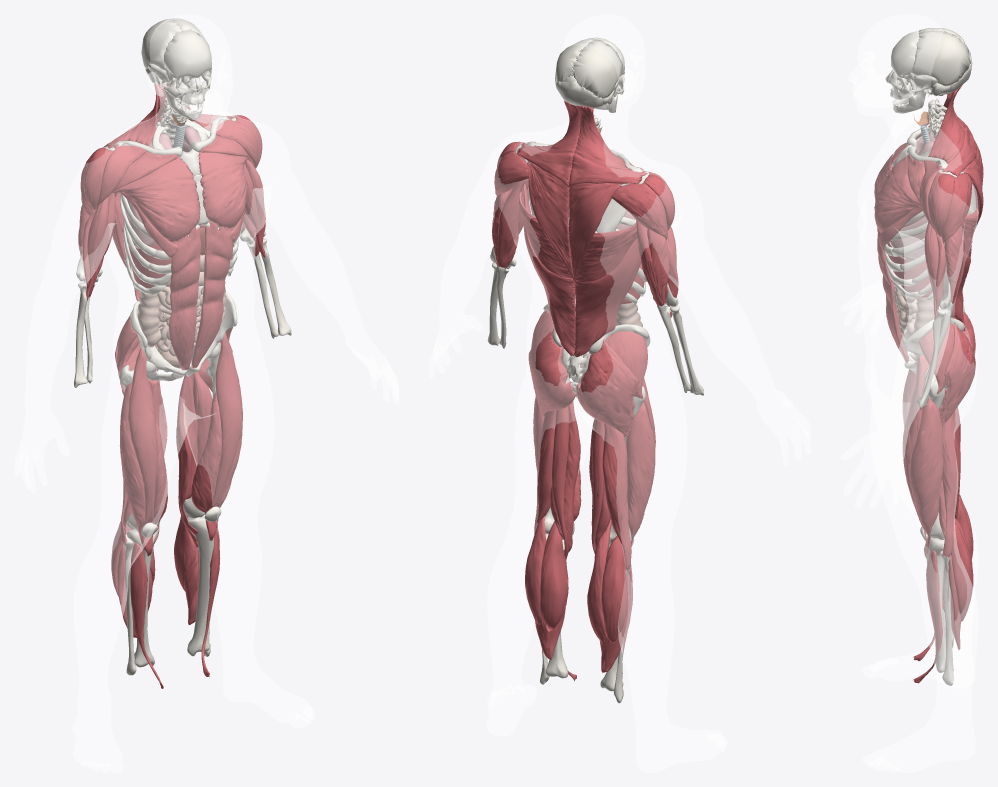
Rendered from human_anatomy_commercial_BACKUP.glb.
The picture shows the model from 3 angles, left to right: view 1: azimuth 30°, elevation 25°; view 2: azimuth 150°, elevation 25°; view 3: azimuth 270°, elevation 25°; orthographic projection.
Parts seen in each view (by area): view 1: Anatomy_Torso, Anatomy_Abdomen, Muscle_QuadricepsFemoris, Muscle_Pectoralis, Anatomy_Head, Muscle_RectusAbdominis, Muscle_TricepsSurae_Calf, Skeletal_Limbs_Lower, Skeletal_Skull, Muscle_Hamstrings, Skeletal_Ribcage, Muscle_Deltoid (+8 smaller); view 2: Anatomy_Abdomen, Anatomy_Torso, Muscle_Trapezius, Muscle_LatissimusDorsi, Muscle_Hamstrings, Muscle_TricepsSurae_Calf, Muscle_Gluteal, Skeletal_Skull, Muscle_QuadricepsFemoris, Muscle_TricepsBrachii, Anatomy_Head, Muscle_Deltoid (+7 smaller); view 3: Anatomy_Torso, Anatomy_Abdomen, Anatomy_Head, Skeletal_Skull, Muscle_QuadricepsFemoris, Muscle_TricepsSurae_Calf, Anatomy_Neck, Muscle_Pectoralis, Muscle_Gluteal, Muscle_Deltoid, Muscle_Trapezius, Skeletal_Ribcage (+12 smaller).
Boxes of the visible parts, x1,y1,x2,y2 form: Anatomy_Torso: (14,112,399,772); Anatomy_Abdomen: (75,273,285,763); Muscle_QuadricepsFemoris: (119,332,242,556); Muscle_Pectoralis: (112,134,250,258); Anatomy_Head: (148,14,232,114); Muscle_RectusAbdominis: (169,221,232,370); Muscle_TricepsSurae_Calf: (111,494,220,688); Skeletal_Limbs_Lower: (119,342,232,675); Skeletal_Skull: (141,18,211,119); Muscle_Hamstrings: (120,371,218,557); Skeletal_Ribcage: (103,116,242,294); Muscle_Deltoid: (80,115,262,215); Anatomy_Abdomen: (488,278,697,772); Anatomy_Torso: (428,123,811,772); Muscle_Trapezius: (517,101,647,281); Muscle_LatissimusDorsi: (518,183,640,357); Muscle_Hamstrings: (534,401,631,571); Muscle_TricepsSurae_Calf: (525,512,632,686); Muscle_Gluteal: (528,310,647,437); Skeletal_Skull: (555,37,624,112); Muscle_QuadricepsFemoris: (533,378,655,547); Muscle_TricepsBrachii: (492,179,669,306); Anatomy_Head: (563,14,646,103); Muscle_Deltoid: (494,141,674,239); Anatomy_Torso: (840,107,978,772); Anatomy_Abdomen: (861,272,978,760); Anatomy_Head: (848,14,942,103); Skeletal_Skull: (885,28,972,113); Muscle_QuadricepsFemoris: (903,355,943,558); Muscle_TricepsSurae_Calf: (913,494,973,683); Anatomy_Neck: (852,79,952,156); Muscle_Pectoralis: (874,133,924,250); Muscle_Gluteal: (919,312,975,425); Muscle_Deltoid: (919,118,971,243); Muscle_Trapezius: (928,85,983,226); Skeletal_Ribcage: (884,124,975,300).
Bounding box in the file's own units: 0.9864 × 1.83 × 0.336.
